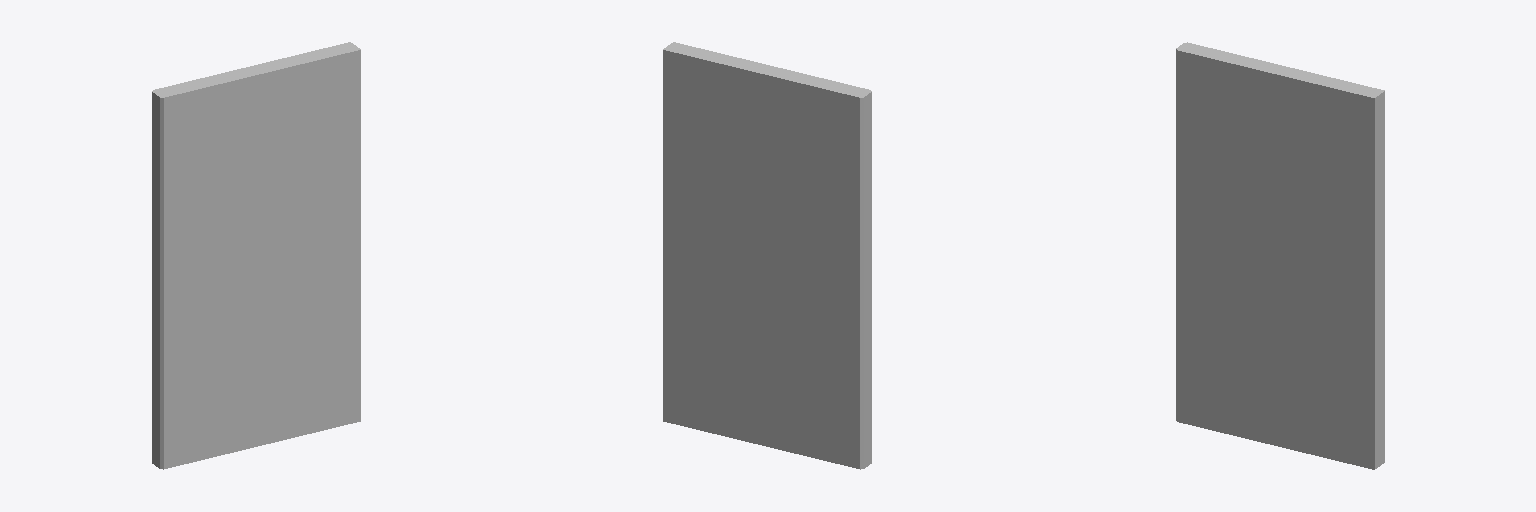
Rendered from elevator_door.obj.
3 views of the same model, side by side, from view 1: azimuth 30°, elevation 25°; view 2: azimuth 150°, elevation 25°; view 3: azimuth 330°, elevation 25° (orthographic).
Visible parts, largest first — view 1: ElevatorDoor; view 2: ElevatorDoor; view 3: ElevatorDoor.
Boxes of the visible parts, <box> form: ElevatorDoor: <box>152,42,360,469</box>; ElevatorDoor: <box>663,42,871,469</box>; ElevatorDoor: <box>1176,42,1384,469</box>.
Bounding box in the file's own units: 2 × 3.56 × 0.1845.